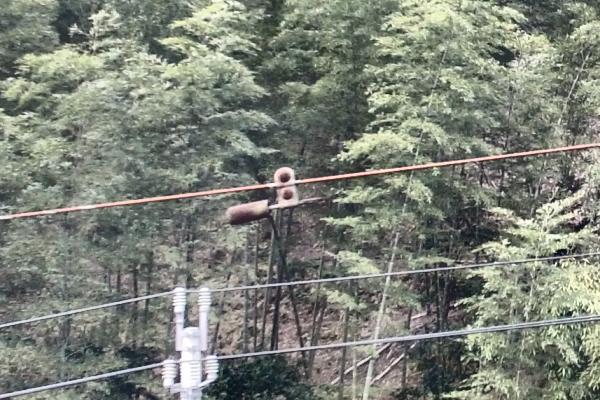damper_defect: (224, 163, 327, 227)
